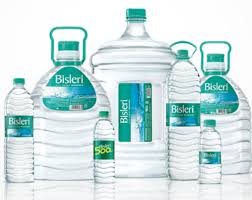Bisleri: (118, 82, 155, 142), (54, 71, 91, 107), (205, 79, 233, 113), (164, 104, 200, 128), (6, 116, 32, 138), (93, 139, 117, 160), (199, 151, 221, 164)
plastic: (98, 47, 174, 182), (36, 69, 96, 182), (3, 81, 41, 184), (92, 114, 118, 179)
